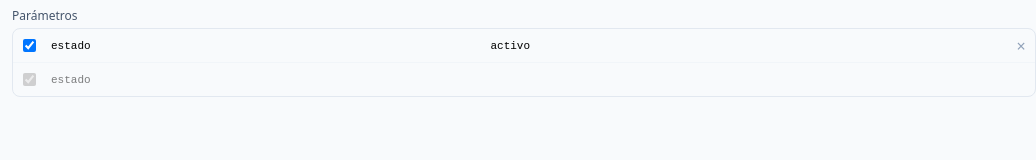
Test: la fila en blanco del final › escribir en ella deja otra debajo: siempre hay una libre
Type "pagina" into the field named "Nombre de parámetros" at (263, 80), box [45,66,480,94]
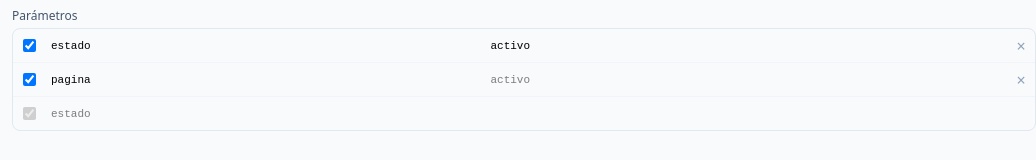
Now the number of fields named "Nombre de parámetros" is 3, box [45,32,480,60]; [45,66,480,94]; [45,100,480,128]
